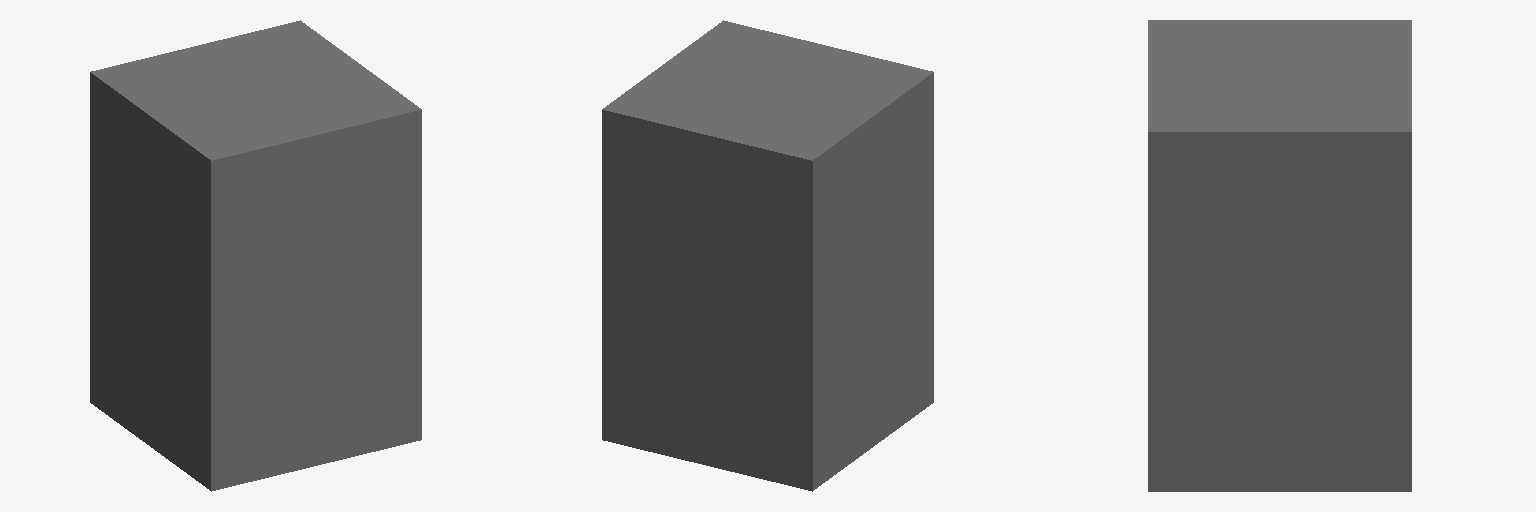
The robot description file, URDF, robot "rectangular_block":
<?xml version="1.0"?>
<robot name="rectangular_block">
    <link name="base_link">
        <visual>
            <geometry>
                <box size="0.5 0.5 0.75"/>  <!-- Length, Width, Height -->
            </geometry>
            <material name="gray">
                <color rgba="0.5 0.5 0.5 1"/>
            </material>
        </visual>
        
        <collision>
            <geometry>
                <box size="0.5 0.5 0.75"/>
            </geometry>
        </collision>
        
        <inertial>
            <mass value="1.0"/>
            <origin xyz="0 0 0"/>
            <inertia ixx="0.01" iyy="0.01" izz="0.01" ixy="0" ixz="0" iyz="0"/>
        </inertial>
    </link>
</robot>

--- Facts derived from the render (not from the file) ---
Views: 3 orthographic renders of the robot side by side, from view 1: azimuth 30°, elevation 25°; view 2: azimuth 150°, elevation 25°; view 3: azimuth 270°, elevation 25°.
Model rectangular_block with 1 links and 0 joints (none), rooted at base_link, posed all joints at 0.
Visible links, largest first — view 1: base_link; view 2: base_link; view 3: base_link.
Link boxes in pixels (x1,y1,x2,y2): base_link: [90, 20, 421, 491]; base_link: [602, 20, 933, 491]; base_link: [1148, 20, 1411, 491].
Size in the robot's own frame: 0.5 by 0.5 by 0.75 metres.
Geometry: primitives only (box / cylinder / sphere), no mesh files.